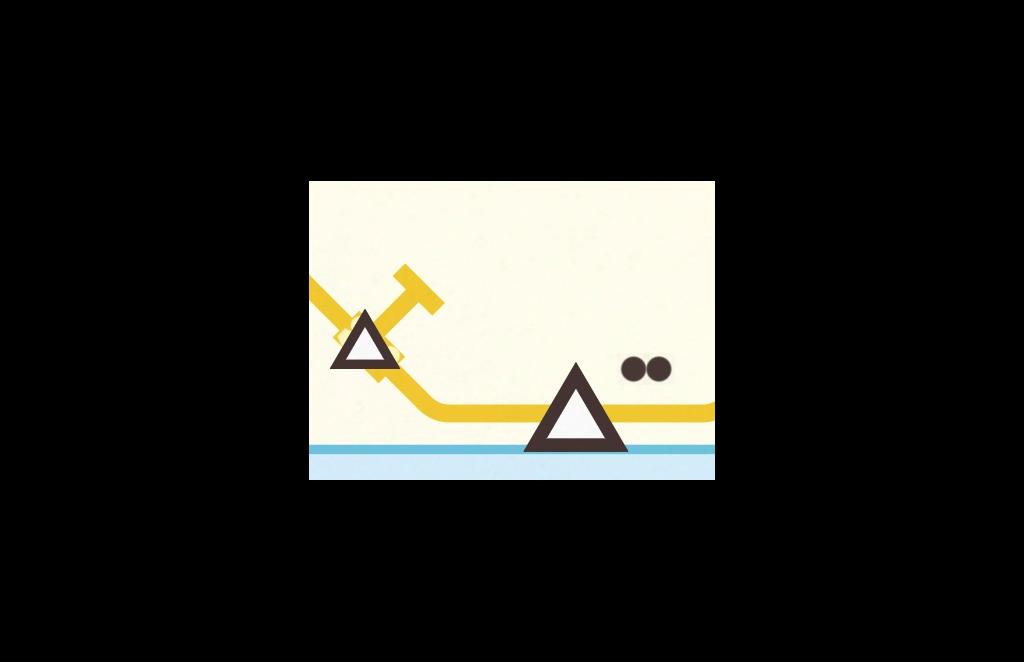connected_station: (532, 351, 634, 469), (338, 310, 403, 377), (580, 181, 699, 188), (309, 182, 359, 195)
line_endpoint: (390, 254, 453, 328)
